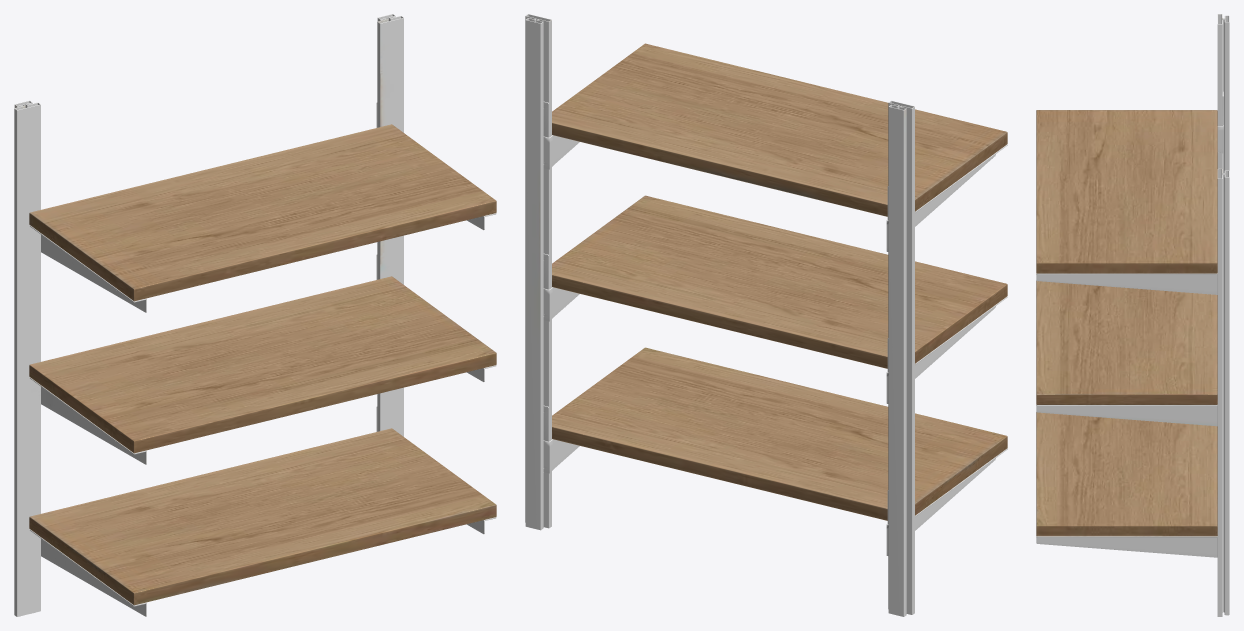
The picture shows the model from 3 angles, left to right: view 1: azimuth 30°, elevation 25°; view 2: azimuth 150°, elevation 25°; view 3: azimuth 270°, elevation 25°; orthographic projection. The views are drawn at different scales.
Parts seen in each view (by area): view 1: kungsfors-shelves-60.001; view 2: kungsfors-shelves-60.001; view 3: kungsfors-shelves-60.001.
Boxes of the visible parts, box(x1,y1,x2,y2) form: kungsfors-shelves-60.001: box(14, 14, 496, 616); kungsfors-shelves-60.001: box(525, 14, 1007, 616); kungsfors-shelves-60.001: box(1036, 14, 1229, 616).
Bounding box in the file's own units: 0.64 × 0.803 × 0.3199.
Materials: 1 (1 with a texture image).
